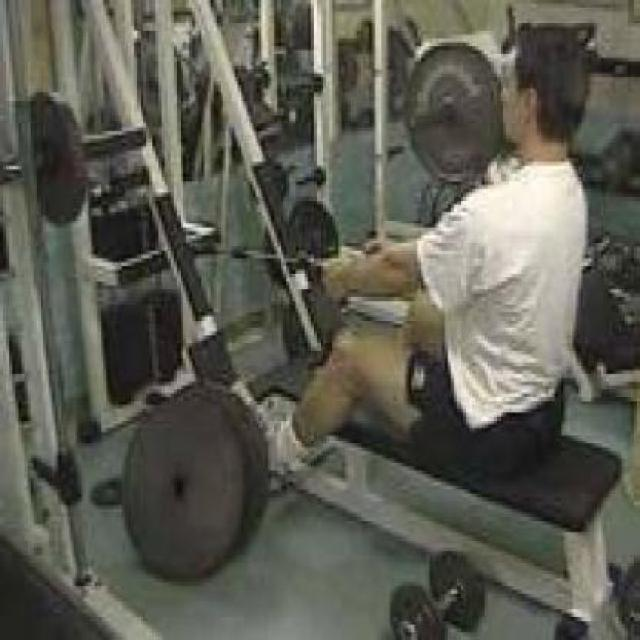Seated Cable Rows: (31, 0, 640, 635)
